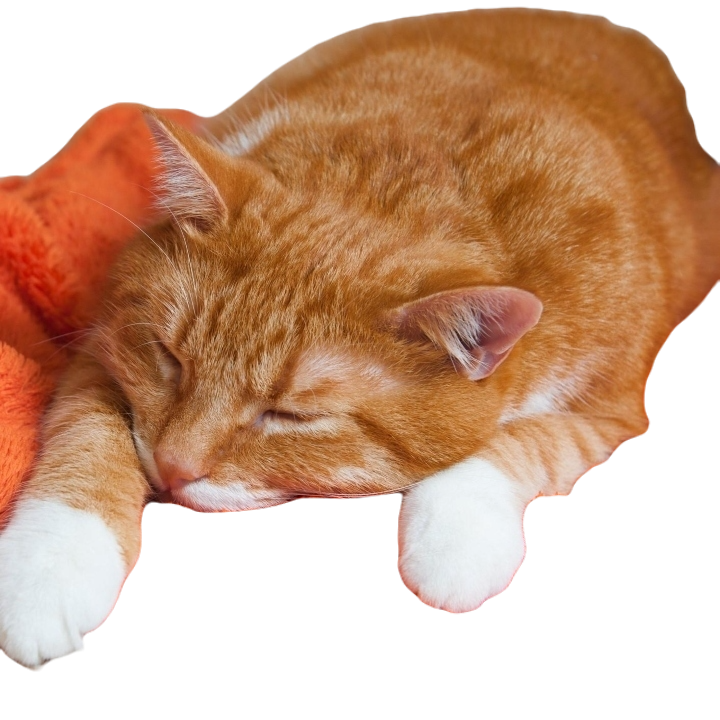Cat: (1, 5, 717, 666)
